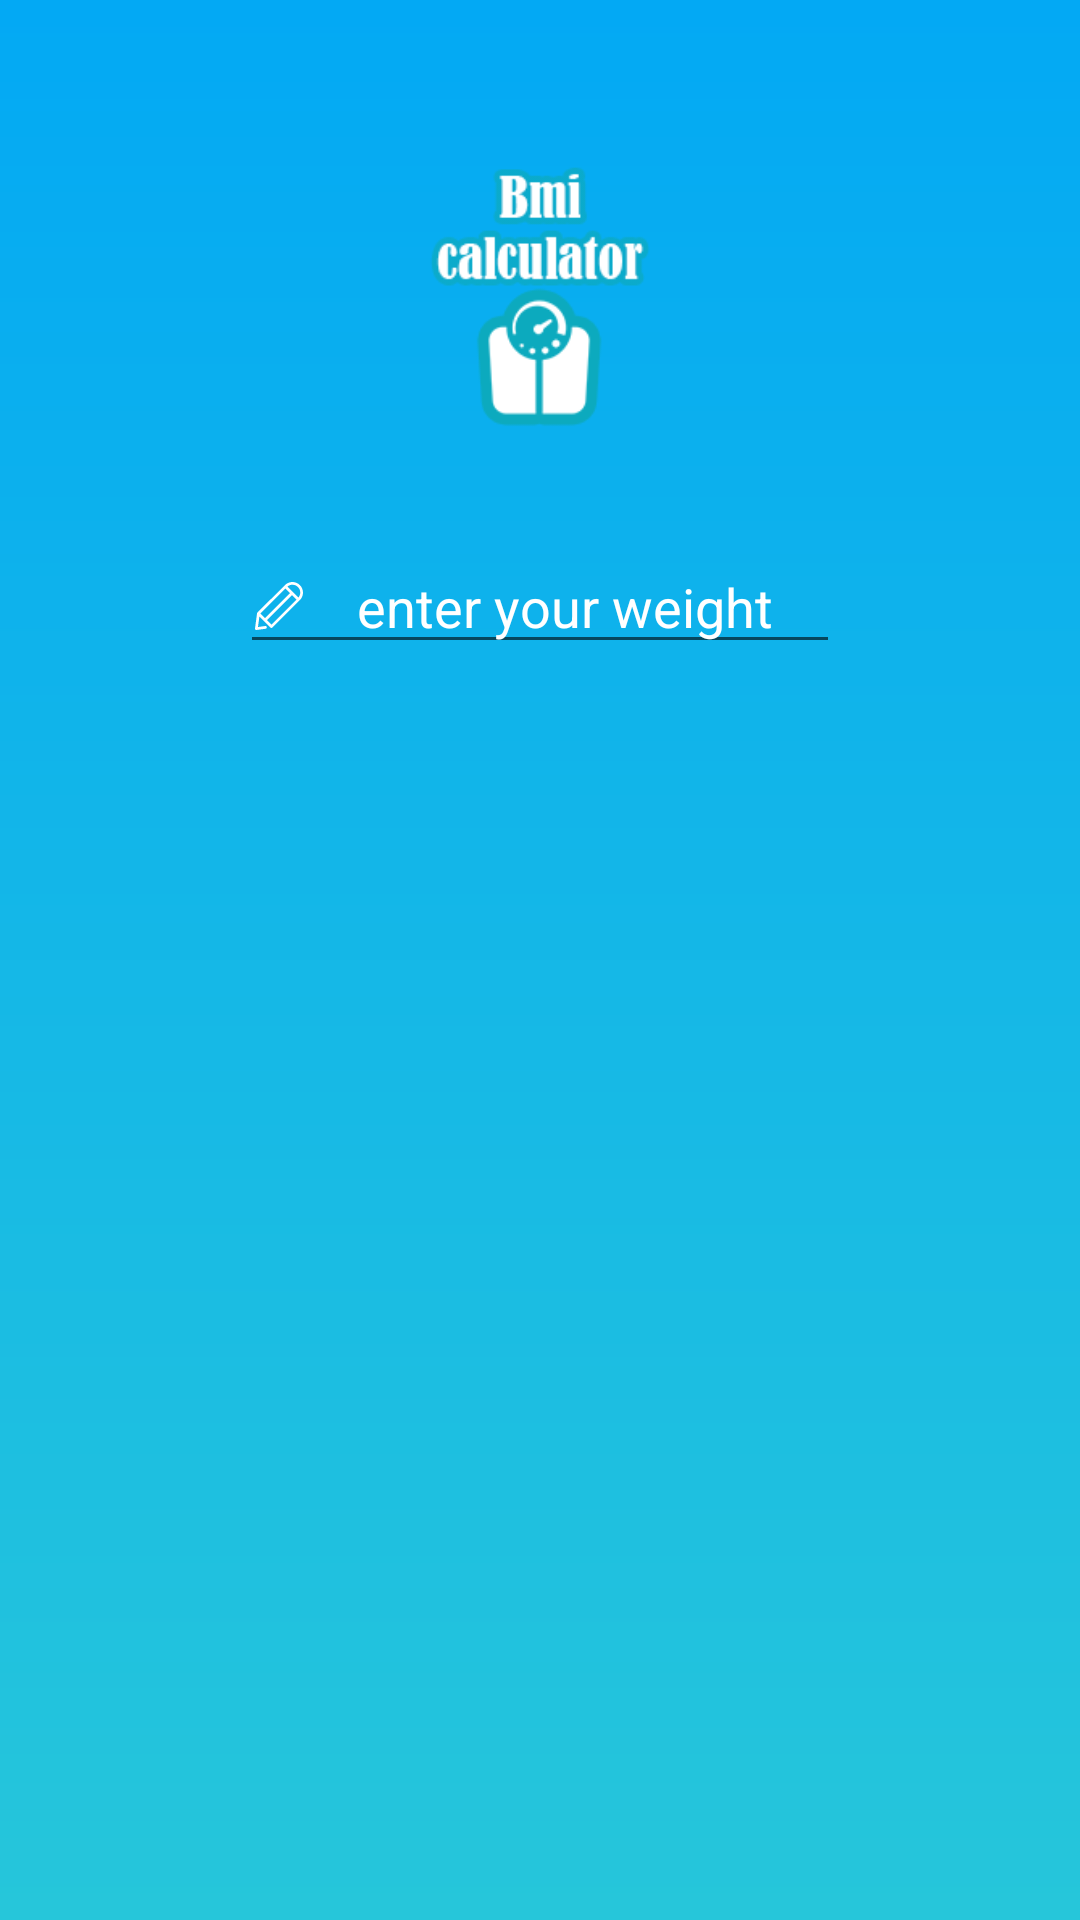

Icons on this 1080w x 1920h Android screen, each with its box as bbox=(x1, y1, x2, y2):
app icon: bbox=(432, 168, 648, 425)
